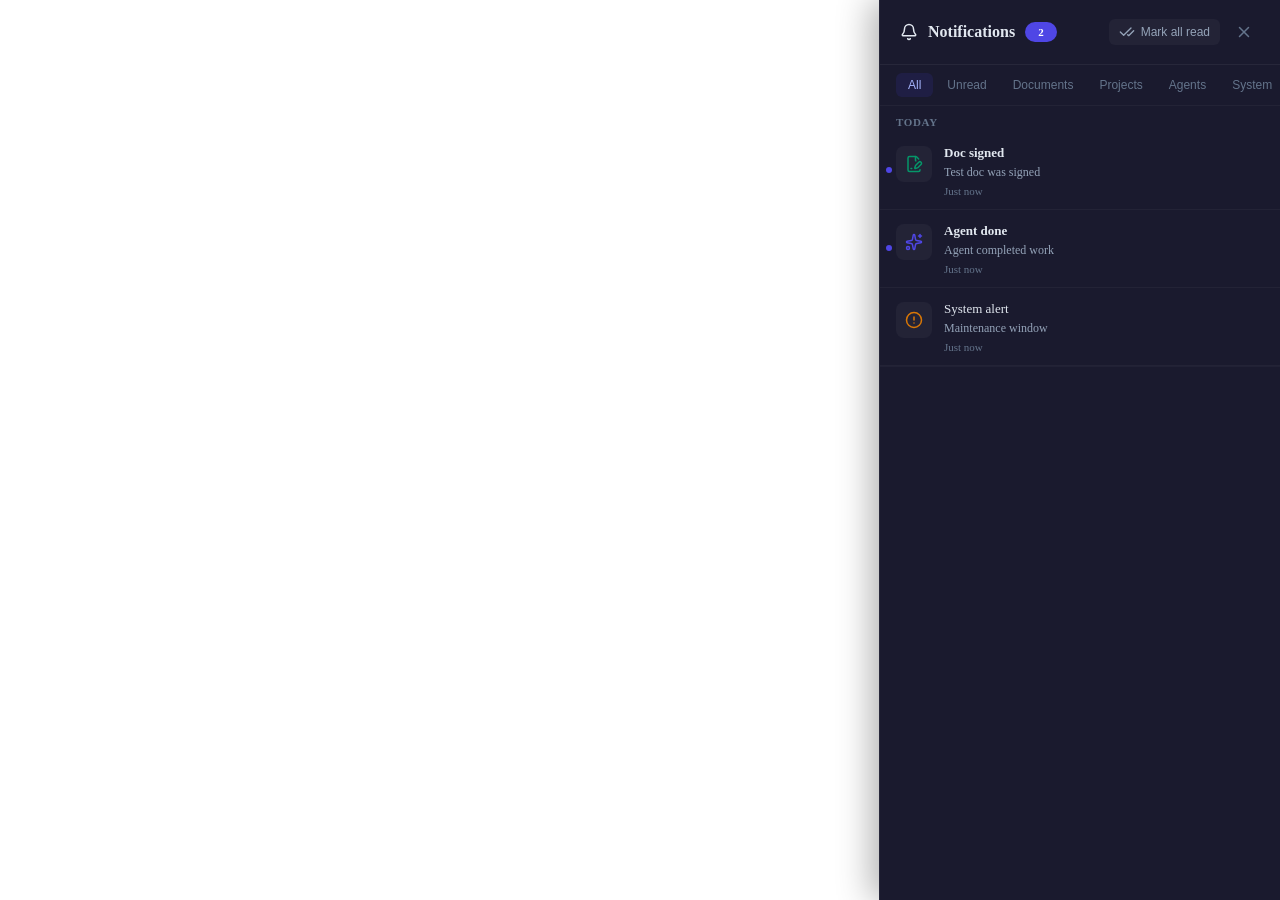
Scenario: NotificationCenter › shows empty state for module with no notifications
This screenshot has width=1280, height=900.
What coordinates should you click on to do the following:
click the tab "Projects"
I would click on:
 (1121, 85)
Its box is [1087, 73, 1155, 97].
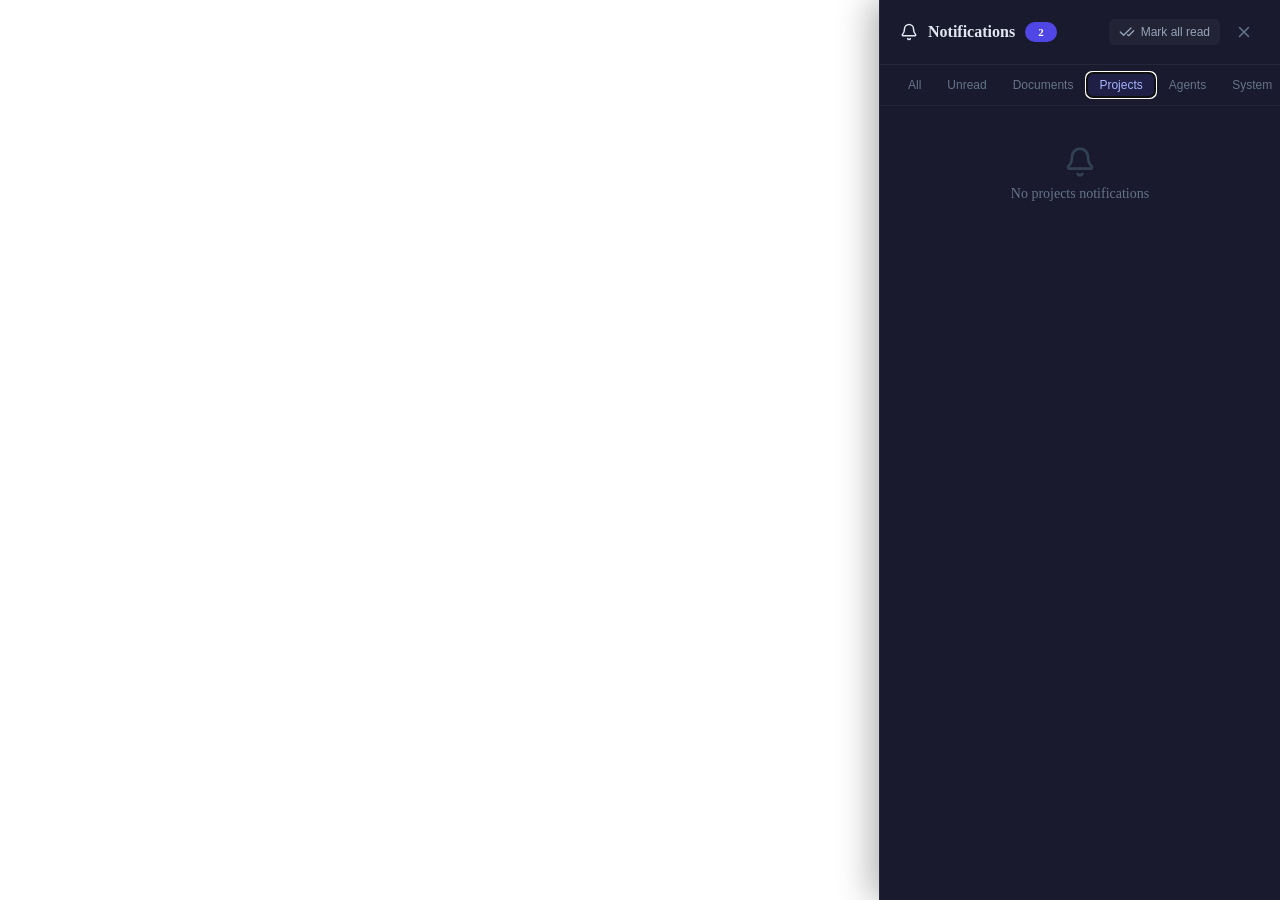
Expected: the text "No projects notifications" is shown, [1011, 186, 1149, 202]
